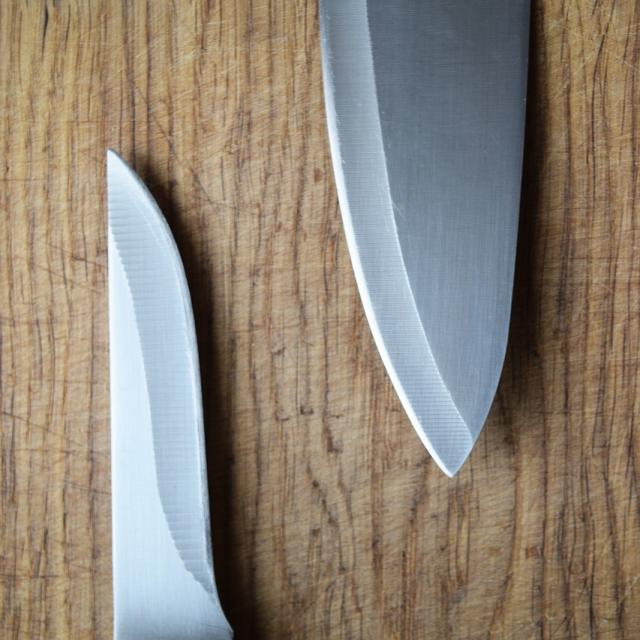knife: (320, 0, 534, 478), (106, 146, 233, 638)
